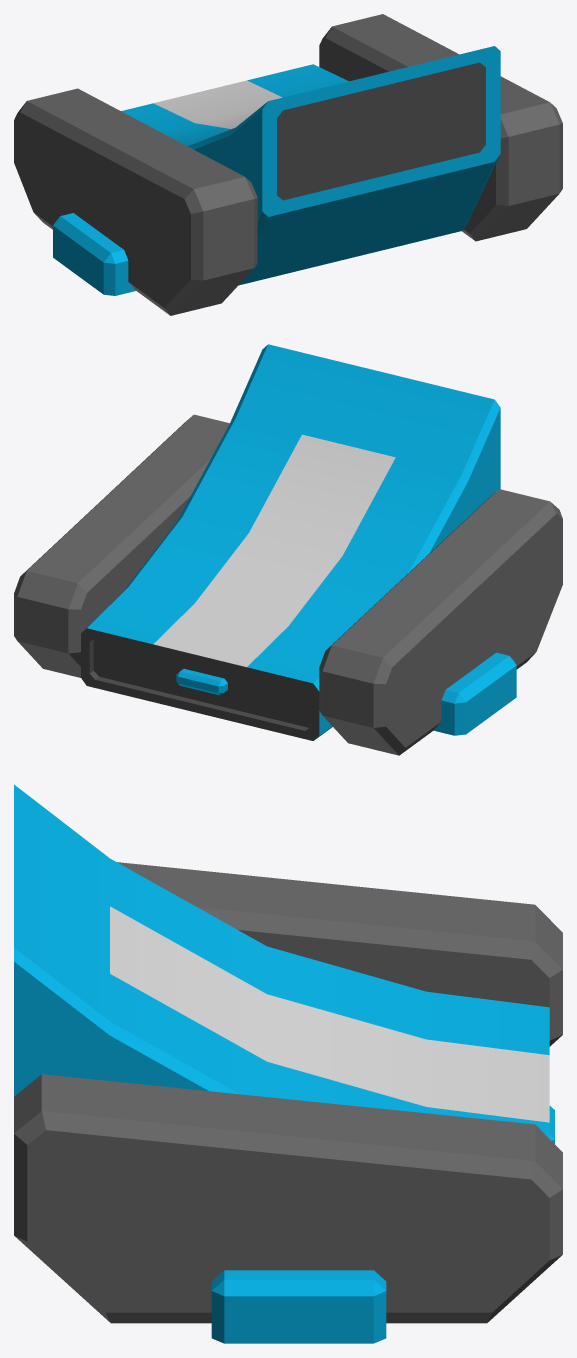
File: Jumper_2nd.fbx
3 views of the same model, one above another, from view 1: azimuth 30°, elevation 25°; view 2: azimuth 150°, elevation 25°; view 3: azimuth 270°, elevation 25° (orthographic). The views are drawn at different scales.
Parts seen in each view (by area): view 1: Jumper_2nd; view 2: Jumper_2nd; view 3: Jumper_2nd.
Part boxes in pixels (x1,y1,x2,y2): Jumper_2nd: [14, 14, 562, 315]; Jumper_2nd: [14, 344, 562, 755]; Jumper_2nd: [14, 784, 562, 1343].
Bounding box in the file's own units: 155 × 80.16 × 121.
